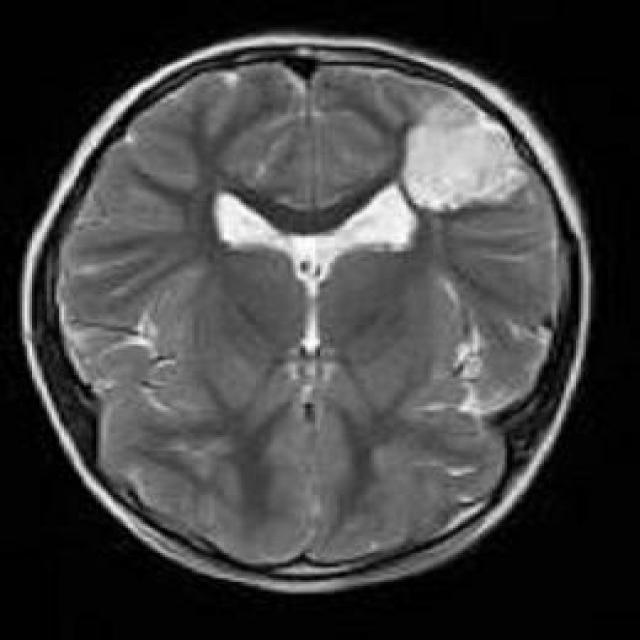brain tumor: (401, 91, 532, 211)
